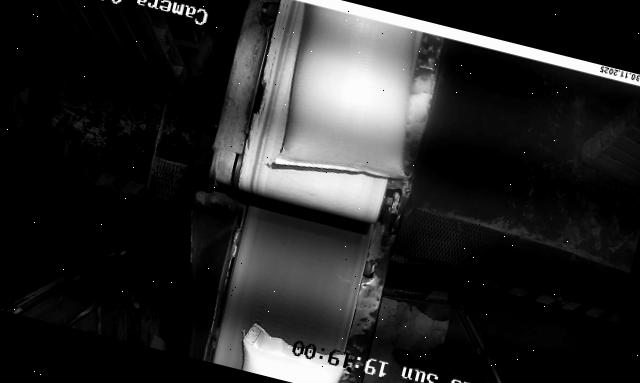bag: (266, 2, 444, 195), (234, 320, 348, 383)
